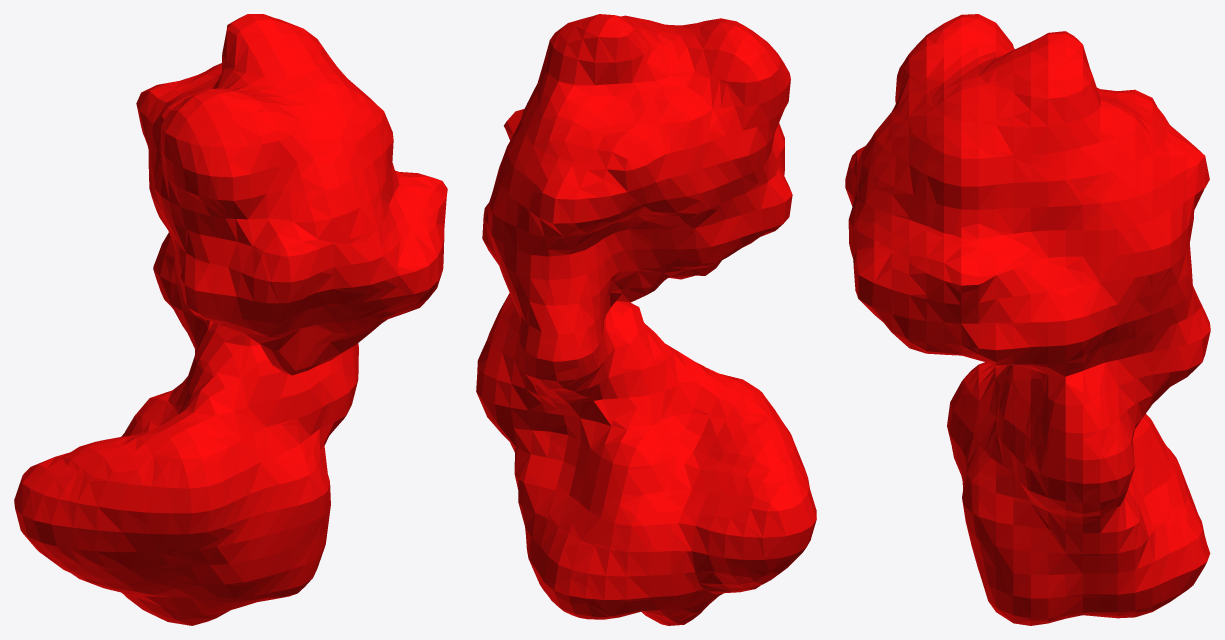
The model's file is arcA_coarse.dae.
3 renders of one model, left to right at view 1: azimuth 30°, elevation 25°; view 2: azimuth 150°, elevation 25°; view 3: azimuth 270°, elevation 25°, orthographic. The views are drawn at different scales.
Visible parts, largest first — view 1: arcA; view 2: arcA; view 3: arcA.
Part boxes in pixels (box(x1,y1,x2,y2)): arcA: box(14, 14, 447, 625); arcA: box(476, 14, 816, 625); arcA: box(845, 14, 1210, 625).
Size of the model in its own units: 51.13 by 79.41 by 43.31.
